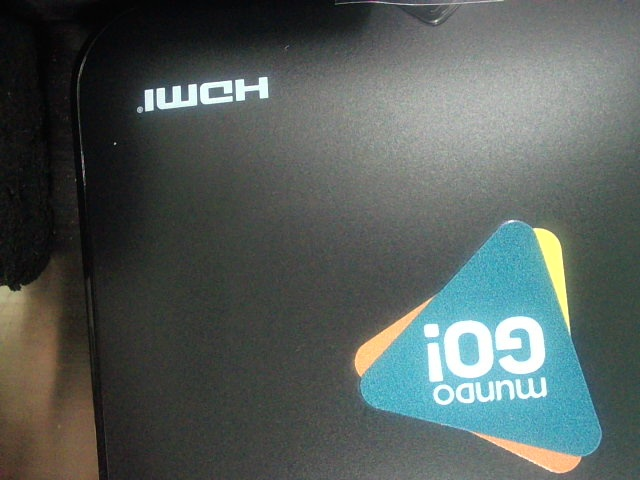AP_IPGMundoGO: (283, 212, 605, 475)
